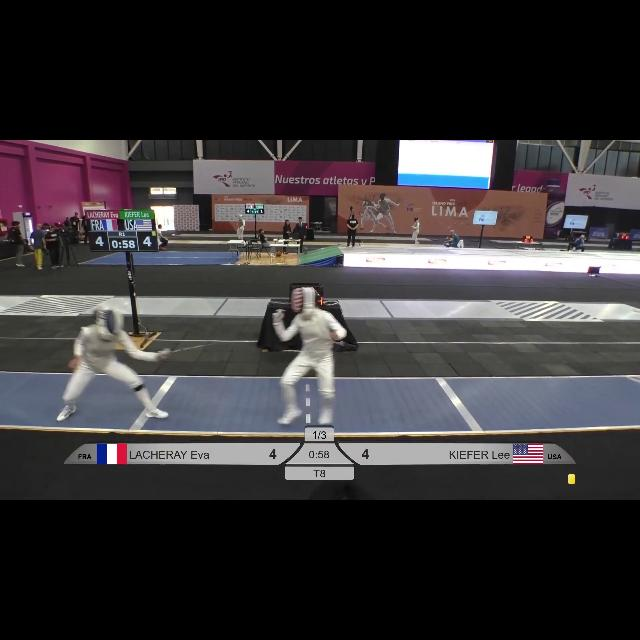blade: (161, 340, 221, 358)
